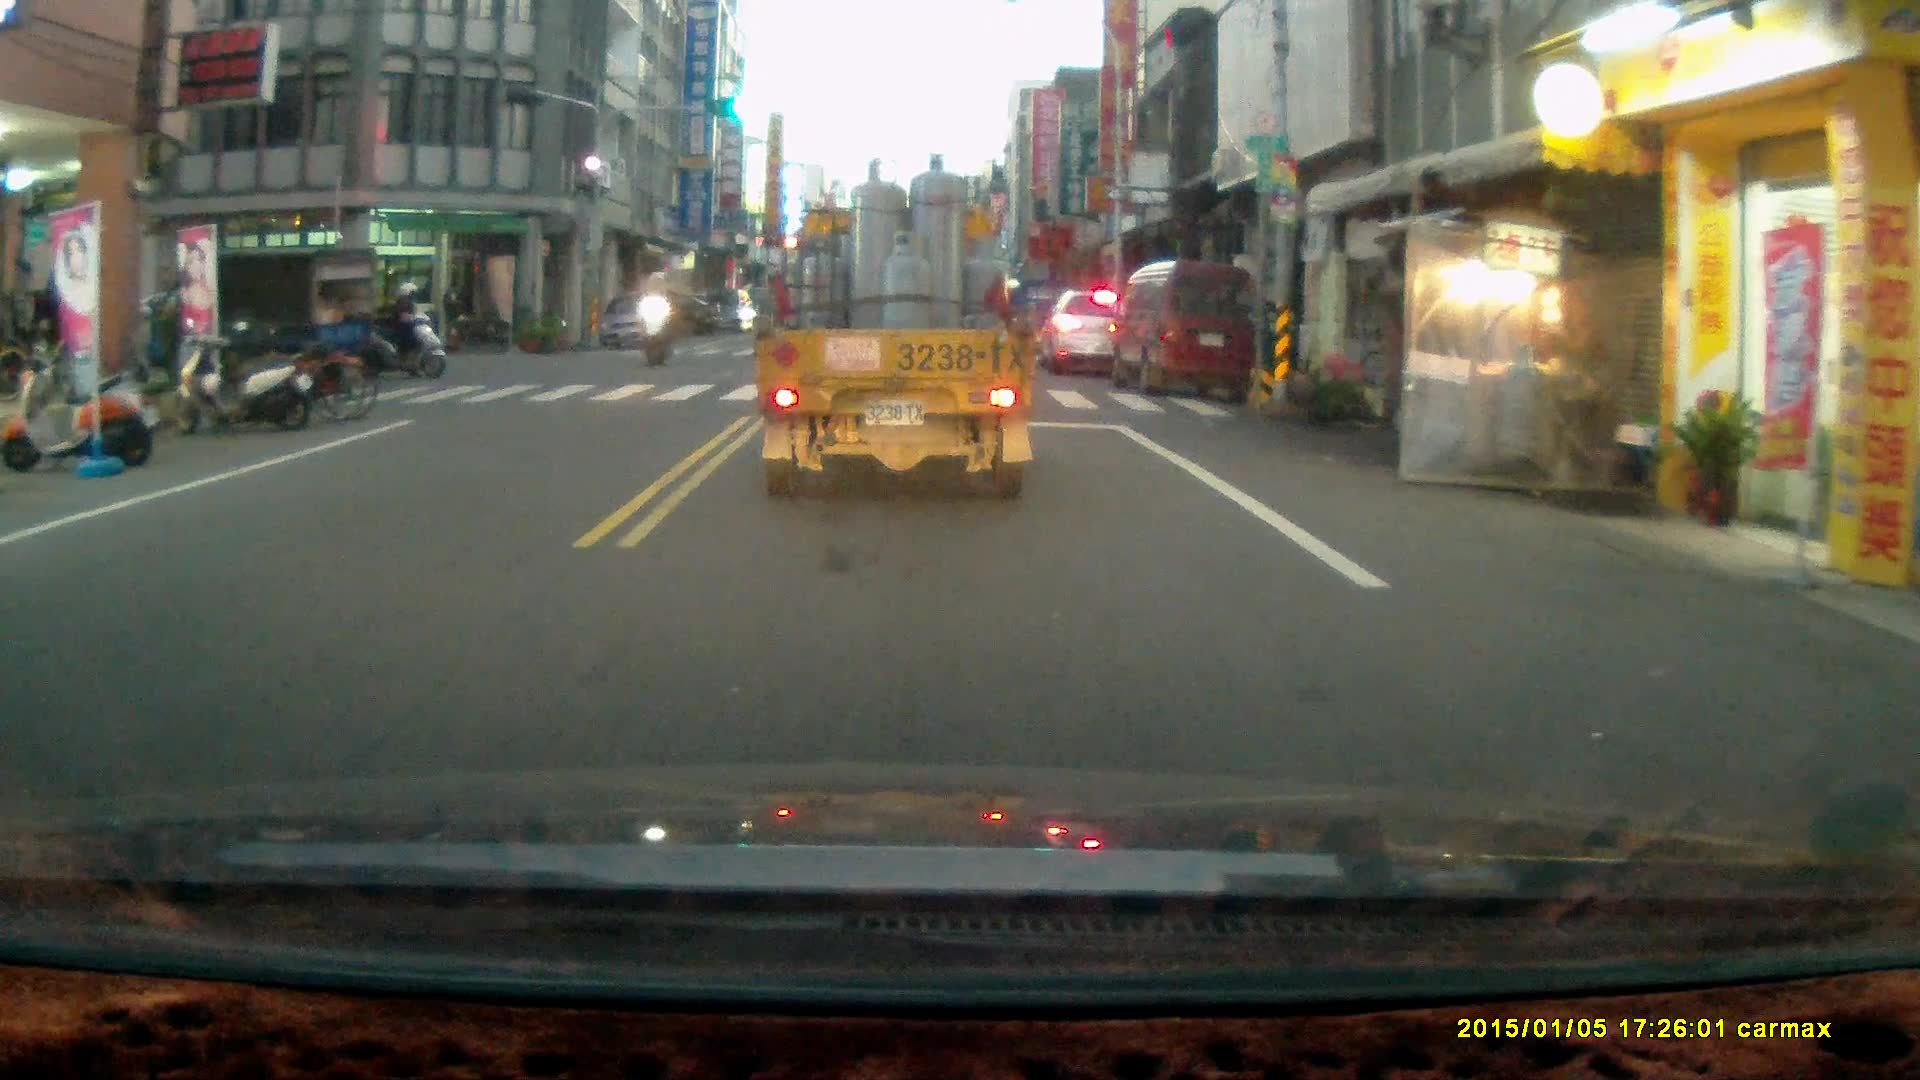pedestrian: (438, 274, 464, 353)
rider: (368, 283, 448, 385), (631, 268, 680, 369)
vehicle: (753, 163, 1029, 512), (113, 247, 382, 397), (1106, 263, 1264, 412), (1044, 289, 1135, 380), (600, 292, 676, 352), (693, 283, 752, 332)
